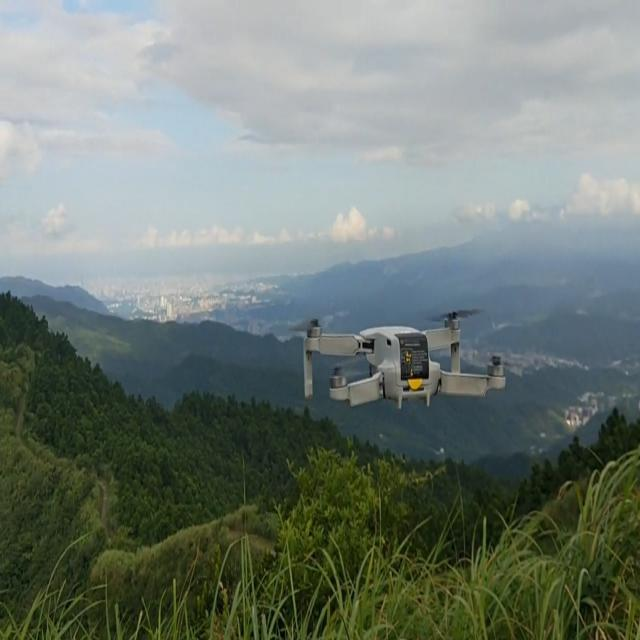Drone: (268, 268, 519, 458)
